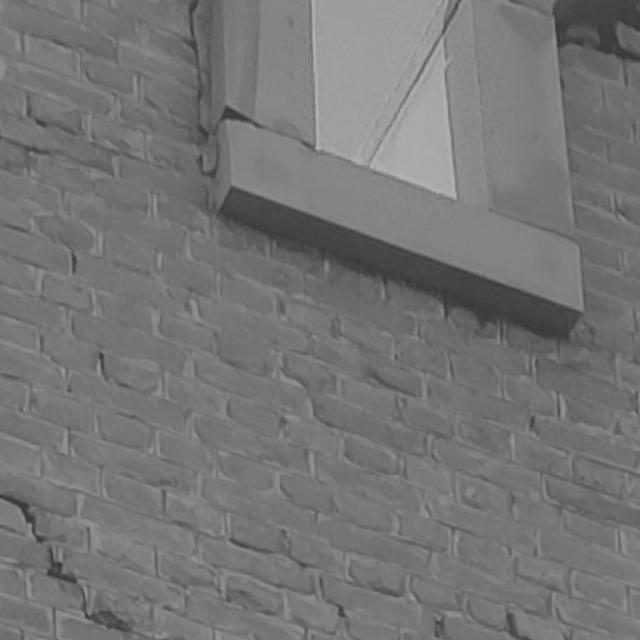crack: (1, 494, 130, 631), (556, 4, 640, 62), (188, 1, 212, 137)
